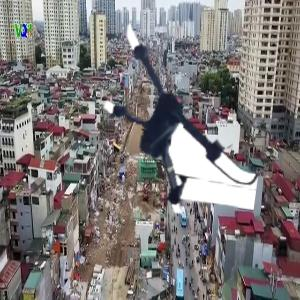drone: (74, 22, 267, 215)
